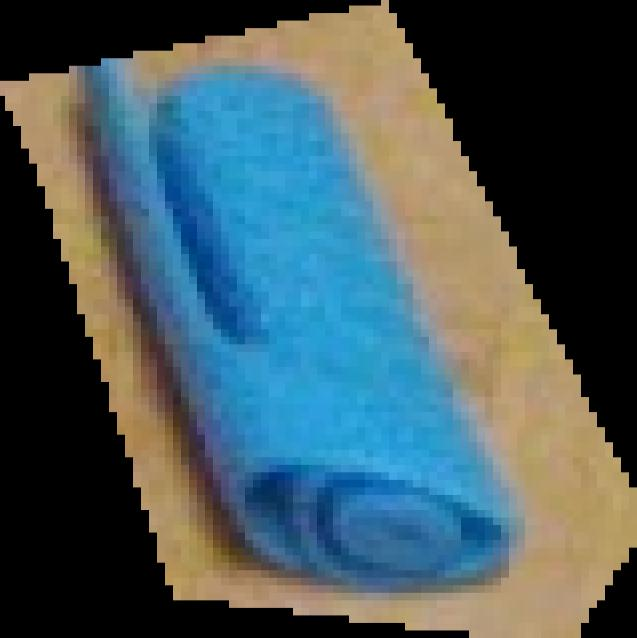blue: (1, 1, 637, 638)
